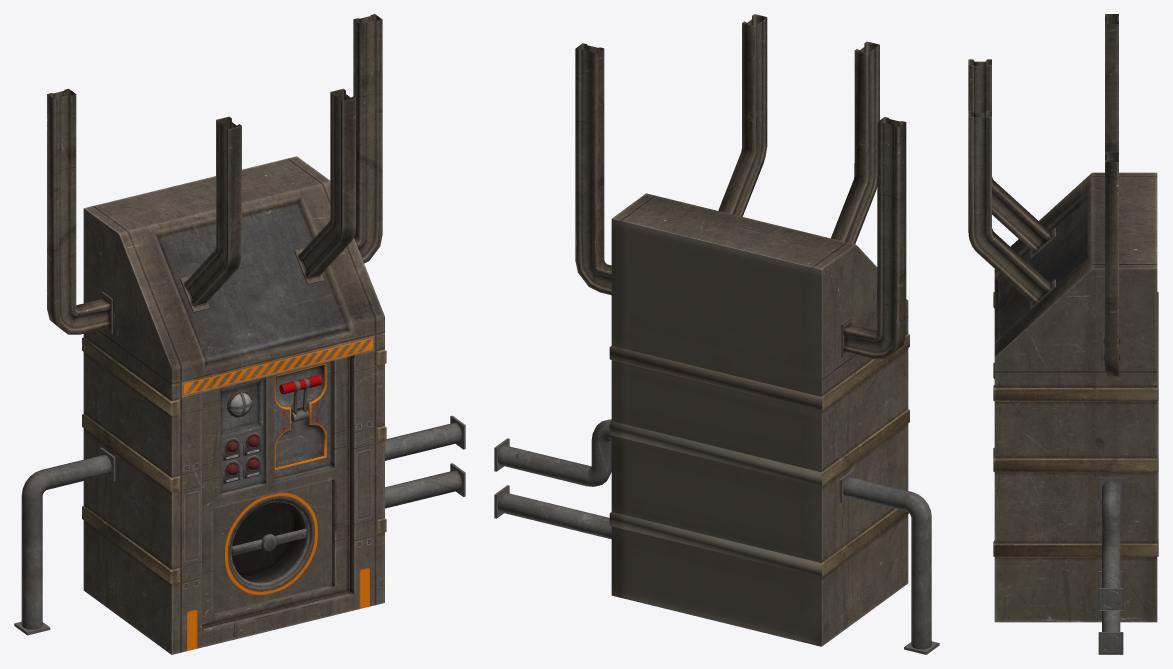
The model's file is reactor_flow_control.dae.
3 views of the same model, side by side, from view 1: azimuth 30°, elevation 25°; view 2: azimuth 150°, elevation 25°; view 3: azimuth 270°, elevation 25° (orthographic). The views are drawn at different scales.
Visible parts, largest first — view 1: low, handle; view 2: low; view 3: low.
Part boxes in pixels (x1,y1,x2,y2): low: [14, 14, 465, 654]; handle: [279, 375, 322, 421]; low: [494, 14, 939, 654]; low: [968, 14, 1158, 654].
Size of the model in its own units: 3.6 by 4.13 by 1.46.
